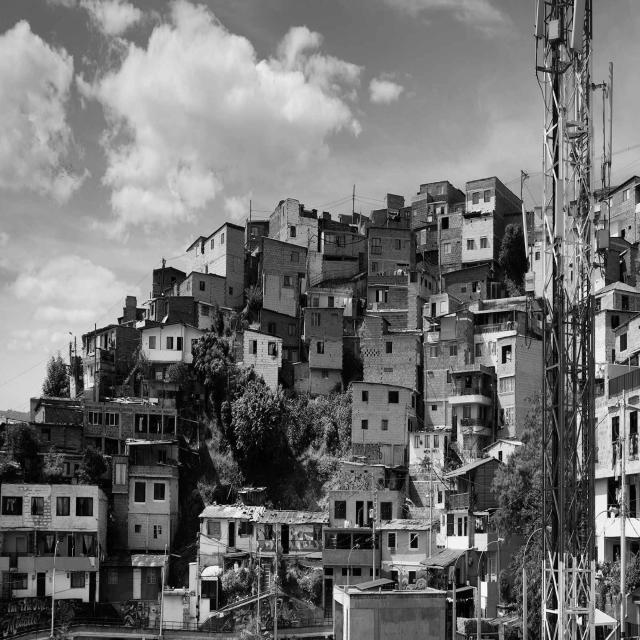Fachada: (0, 484, 108, 606), (322, 489, 405, 608), (595, 367, 640, 562), (461, 176, 522, 279), (365, 209, 415, 328), (352, 382, 421, 466), (411, 181, 463, 292), (424, 311, 474, 426), (261, 238, 307, 362), (445, 457, 506, 549), (179, 223, 244, 307), (83, 398, 178, 453), (82, 319, 140, 399), (362, 317, 421, 394), (497, 336, 542, 436), (270, 198, 322, 280), (128, 465, 178, 550), (449, 374, 495, 463), (381, 519, 438, 590), (595, 282, 640, 363), (199, 503, 265, 557), (474, 299, 525, 367), (303, 308, 343, 394), (254, 509, 328, 554), (98, 553, 164, 603), (318, 212, 367, 278), (31, 396, 83, 452), (237, 329, 282, 390), (601, 176, 640, 244), (141, 323, 203, 364), (441, 264, 506, 302), (307, 276, 366, 317), (437, 201, 463, 289), (112, 455, 129, 549), (610, 312, 640, 363), (124, 296, 137, 319)
